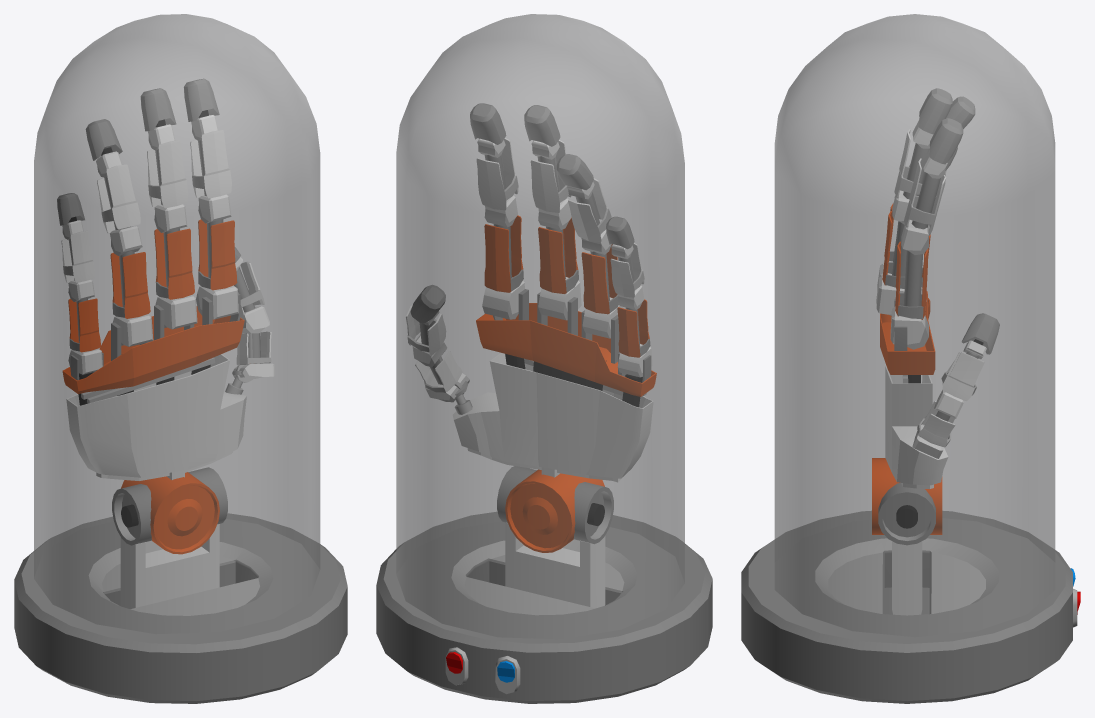
File: WW_hand_prop.fbx
The picture shows the model from 3 angles, left to right: view 1: azimuth 30°, elevation 25°; view 2: azimuth 150°, elevation 25°; view 3: azimuth 270°, elevation 25°; orthographic projection.
Visible parts, largest first — view 1: pSphere67, pCylinder20, polySurface3, polySurface4, pCube78, pCylinder21, pCube62, pCube63, pCube81, pCube43, pCube44, pCube45 (+10 smaller); view 2: pSphere67, pCylinder20, polySurface3, polySurface4, pCube78, pCylinder21, pCube63, pCube62, pCylinder24, pCube43, pCube81, pCube44 (+12 smaller); view 3: pSphere67, pCylinder20, polySurface3, pCylinder24, pCube63, pCube43, pCube78, polySurface4, pCube52, pCube62, pCylinder21, pCube40 (+5 smaller).
Part boxes in pixels (left/top/right/bottom): pSphere67: left=34, top=14, right=320, bottom=633; pCylinder20: left=14, top=513, right=347, bottom=703; polySurface3: left=66, top=354, right=246, bottom=480; polySurface4: left=62, top=306, right=244, bottom=393; pCube78: left=120, top=524, right=219, bottom=608; pCylinder21: left=121, top=472, right=219, bottom=554; pCube62: left=154, top=228, right=197, bottom=329; pCube63: left=196, top=219, right=238, bottom=319; pCube81: left=110, top=251, right=153, bottom=346; pCube43: left=190, top=130, right=231, bottom=223; pCube44: left=147, top=140, right=188, bottom=232; pCube45: left=97, top=164, right=142, bottom=255; pSphere67: left=396, top=14, right=684, bottom=638; pCylinder20: left=376, top=512, right=712, bottom=703; polySurface3: left=453, top=353, right=653, bottom=482; polySurface4: left=476, top=303, right=656, bottom=396; pCube78: left=505, top=522, right=605, bottom=608; pCylinder21: left=505, top=469, right=604, bottom=552; pCube63: left=482, top=215, right=524, bottom=319; pCube62: left=538, top=218, right=581, bottom=320; pCylinder24: left=497, top=466, right=613, bottom=543; pCube43: left=476, top=138, right=518, bottom=227; pCube81: left=581, top=244, right=623, bottom=338; pCube44: left=530, top=140, right=571, bottom=229; pSphere67: left=774, top=14, right=1055, bottom=636; pCylinder20: left=741, top=511, right=1072, bottom=703; polySurface3: left=885, top=364, right=947, bottom=488; pCylinder24: left=878, top=483, right=935, bottom=545; pCube63: left=890, top=241, right=928, bottom=349; pCube43: left=901, top=158, right=945, bottom=254; pCube78: left=892, top=541, right=922, bottom=615; polySurface4: left=880, top=291, right=935, bottom=374; pCube52: left=934, top=351, right=984, bottom=418; pCube62: left=876, top=211, right=906, bottom=315; pCylinder21: left=872, top=458, right=942, bottom=534; pCube40: left=923, top=118, right=963, bottom=178.
Bounding box in the file's own units: 14.76 × 29.6 × 14.95.
